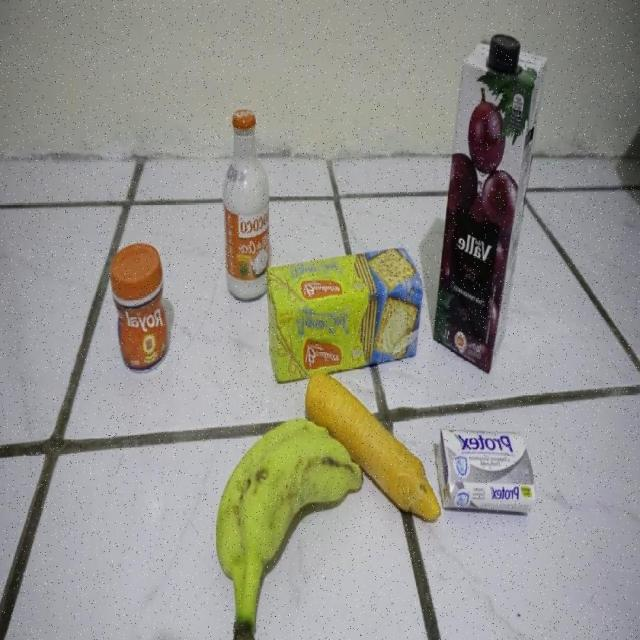Banana: (214, 420, 362, 640)
Carrot: (304, 372, 438, 522)
CoconutMilk: (223, 110, 268, 305)
Cracker: (268, 247, 421, 384)
Soap: (436, 429, 534, 513)
Yeast: (110, 244, 167, 375)
